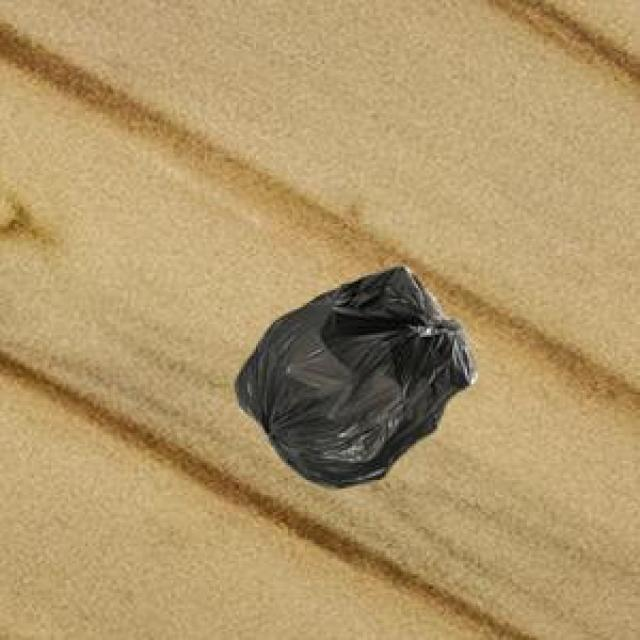Trashbag: (228, 253, 479, 492)
